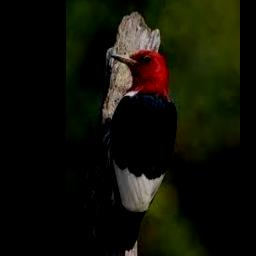Woodpecker: (99, 50, 180, 256)
